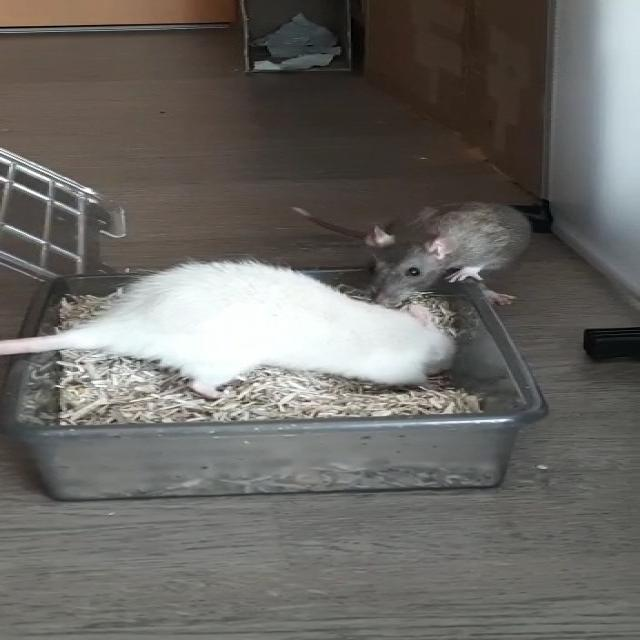rat: (106, 263, 462, 396), (358, 202, 530, 310)
